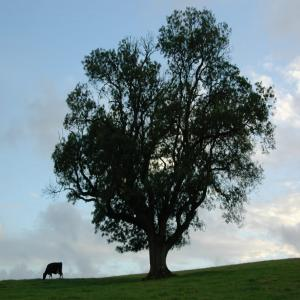Tree: (39, 6, 277, 280)
